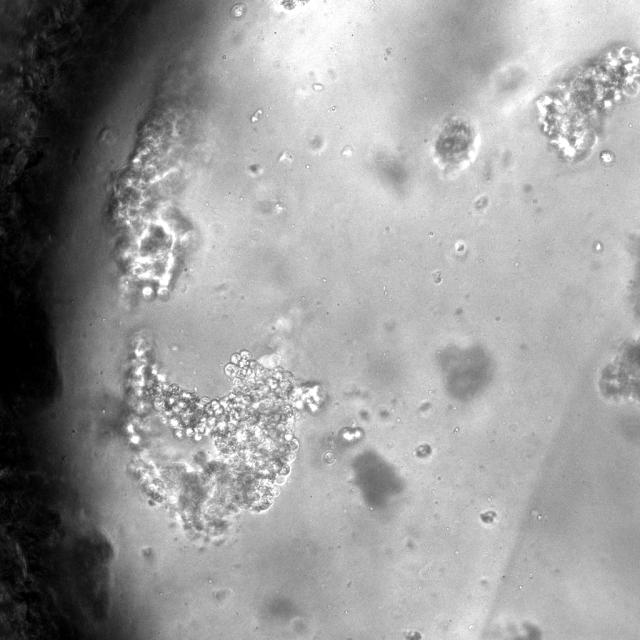organoid: (124, 334, 321, 542), (108, 65, 211, 304), (536, 46, 639, 161), (430, 116, 480, 178), (599, 339, 639, 406), (599, 149, 615, 165), (322, 451, 336, 465)
